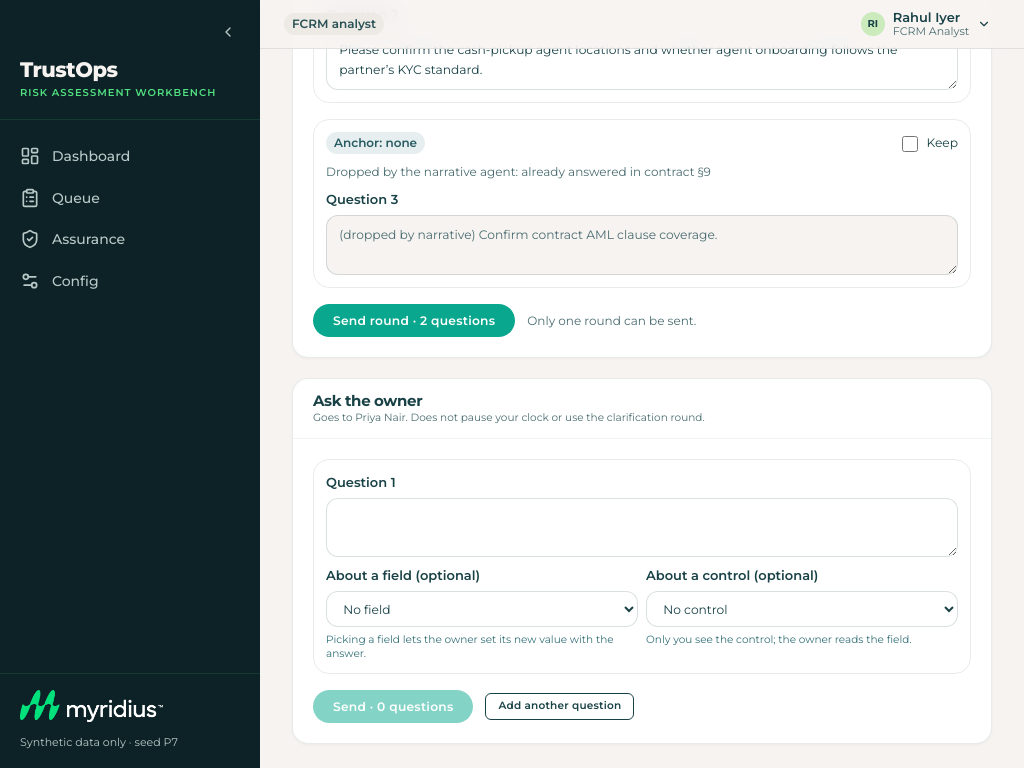
Ask the owner: a field and a control (ADR-73) › sends nulls when neither is picked
(page scrolled)
Type "Anything else we should know?" into the text box labelled "Question 1" at [642, 527], box [326,498,958,557]
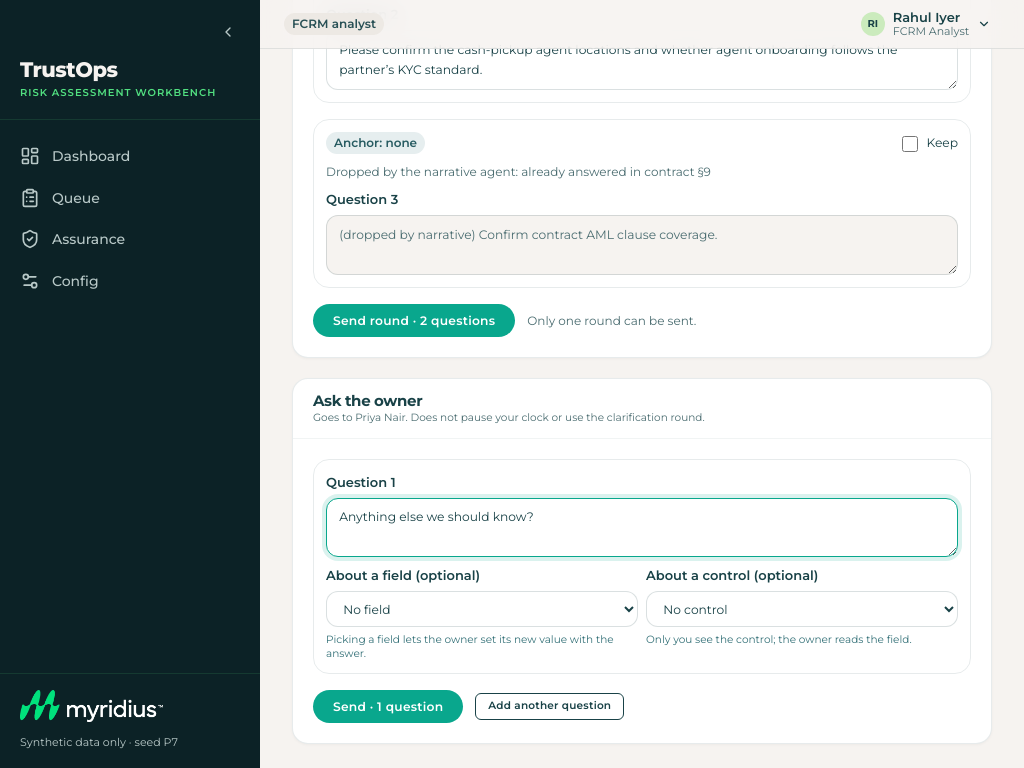
Click the button "Send · 1 question" at [388, 706], box [313,690,463,723]
(page scrolled)
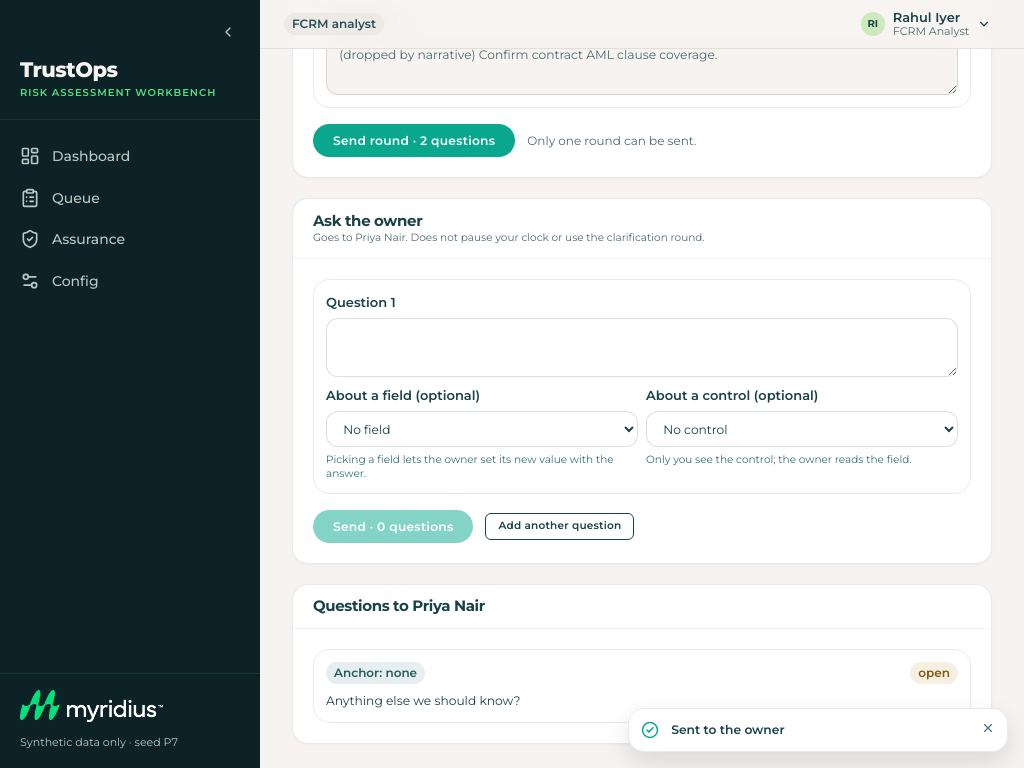
Check: the heading "Questions to Priya Nair" is shown, box [313,597,485,615]
